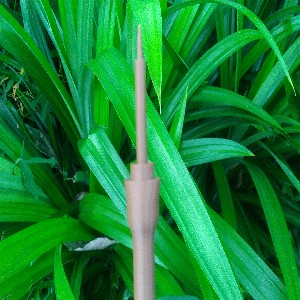solder: (124, 23, 160, 300)
